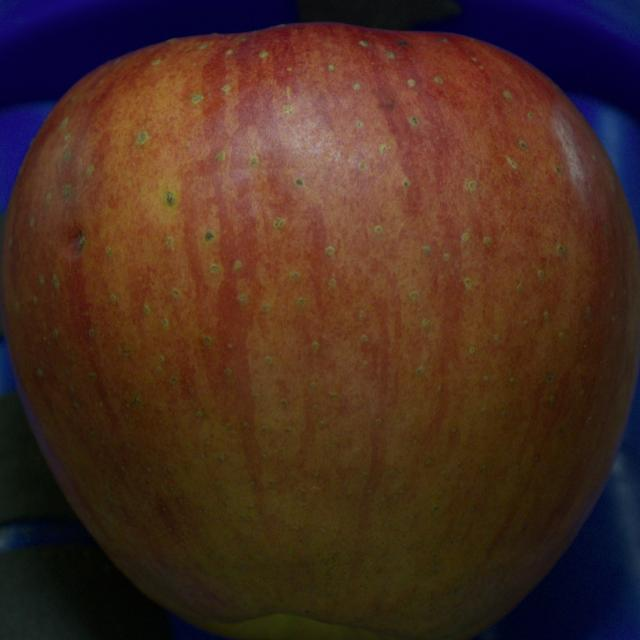apple: (0, 24, 639, 639)
pest: (397, 40, 409, 46)
scratch: (73, 229, 86, 256)
